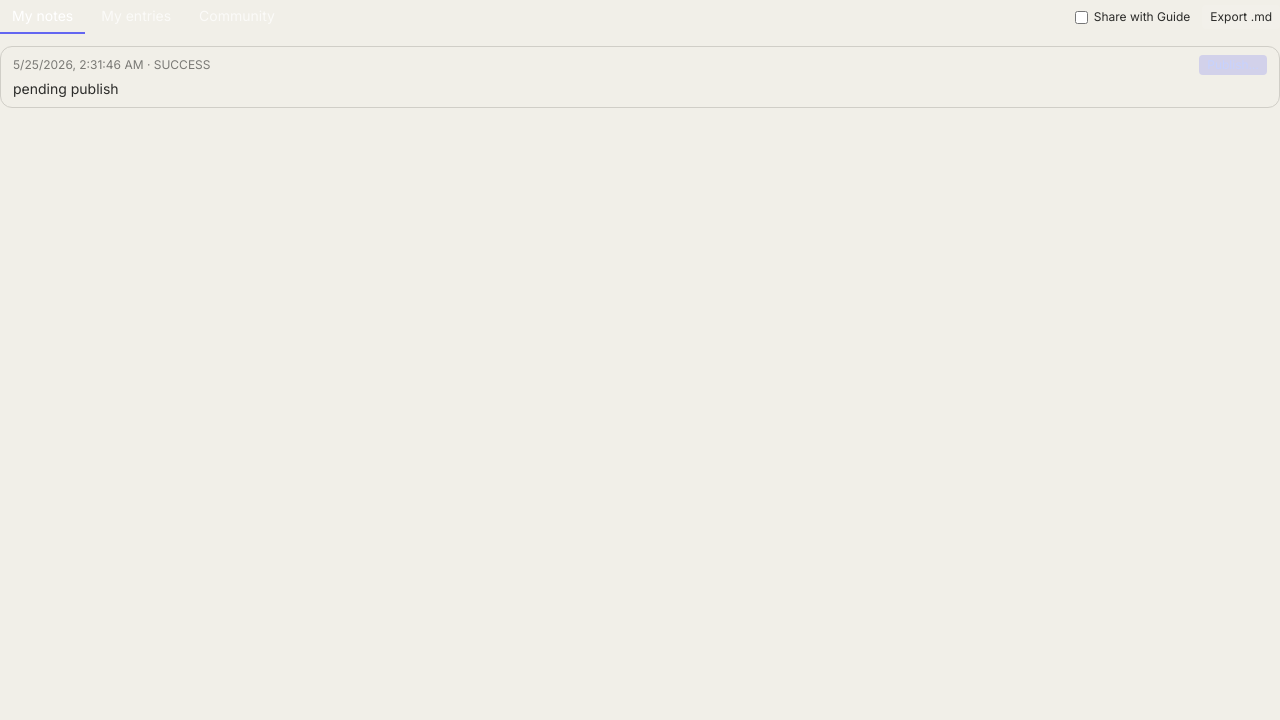
Scenario: TrainingJournalTab › surfaces a friendly 503 message when publish is disabled
Expected: the text "pending publish" is shown, x1=13 y1=80 x2=119 y2=97
Click the button with aria-label "Publish note" at (1233, 65), box x1=1199 y1=55 x2=1267 y2=75
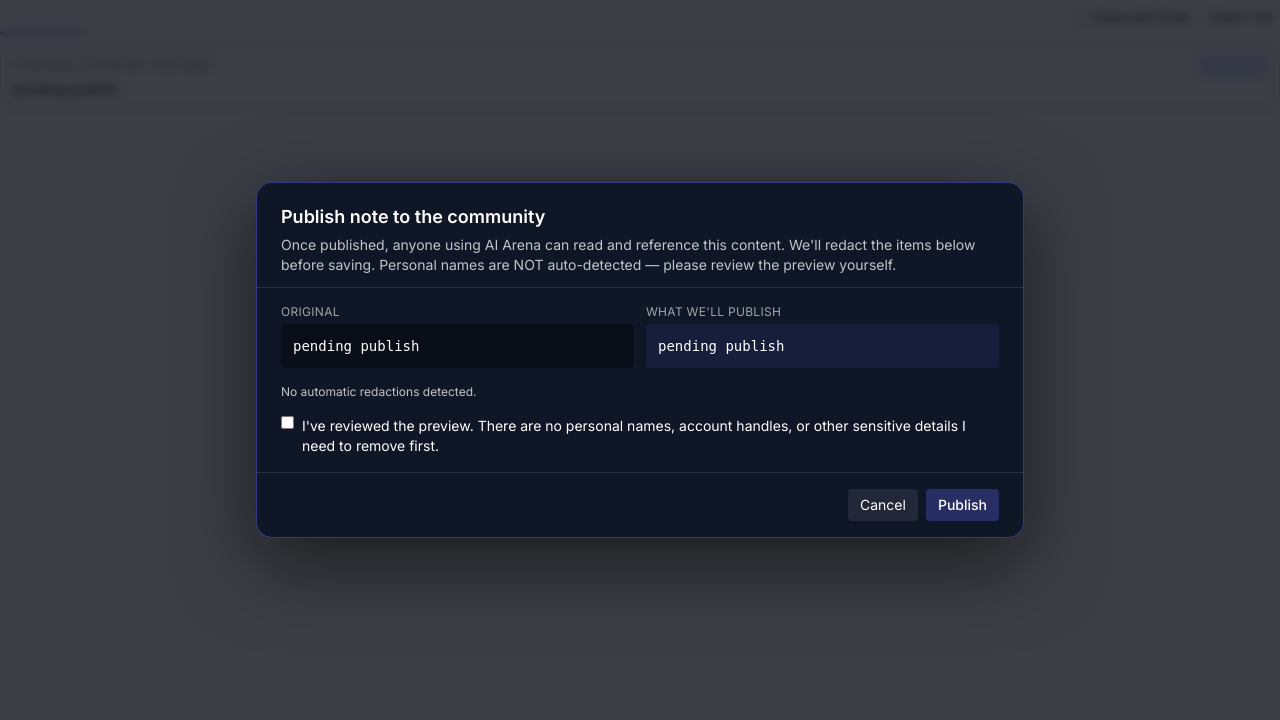
Note: Modal opens — tick the checkbox and click Publish.
Click the checkbox at (288, 422), box x1=281 y1=416 x2=294 y2=429
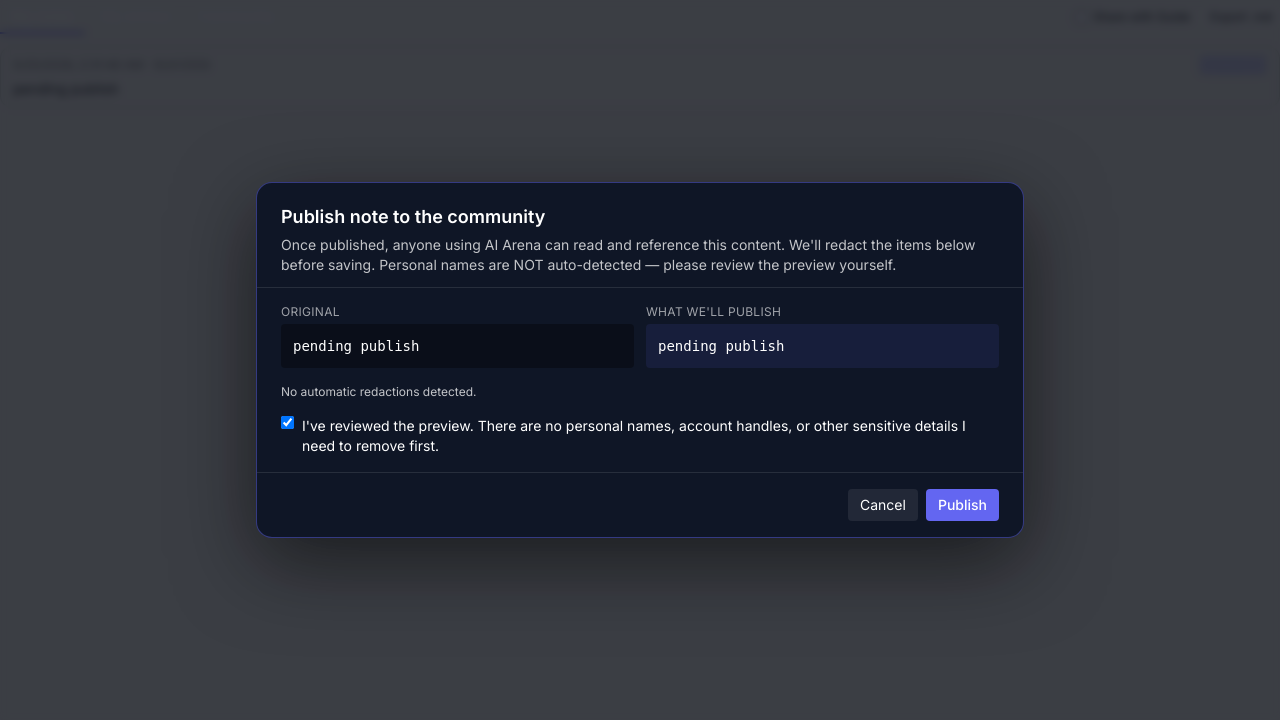
Click the button "Publish" at (962, 505), box x1=926 y1=489 x2=999 y2=521
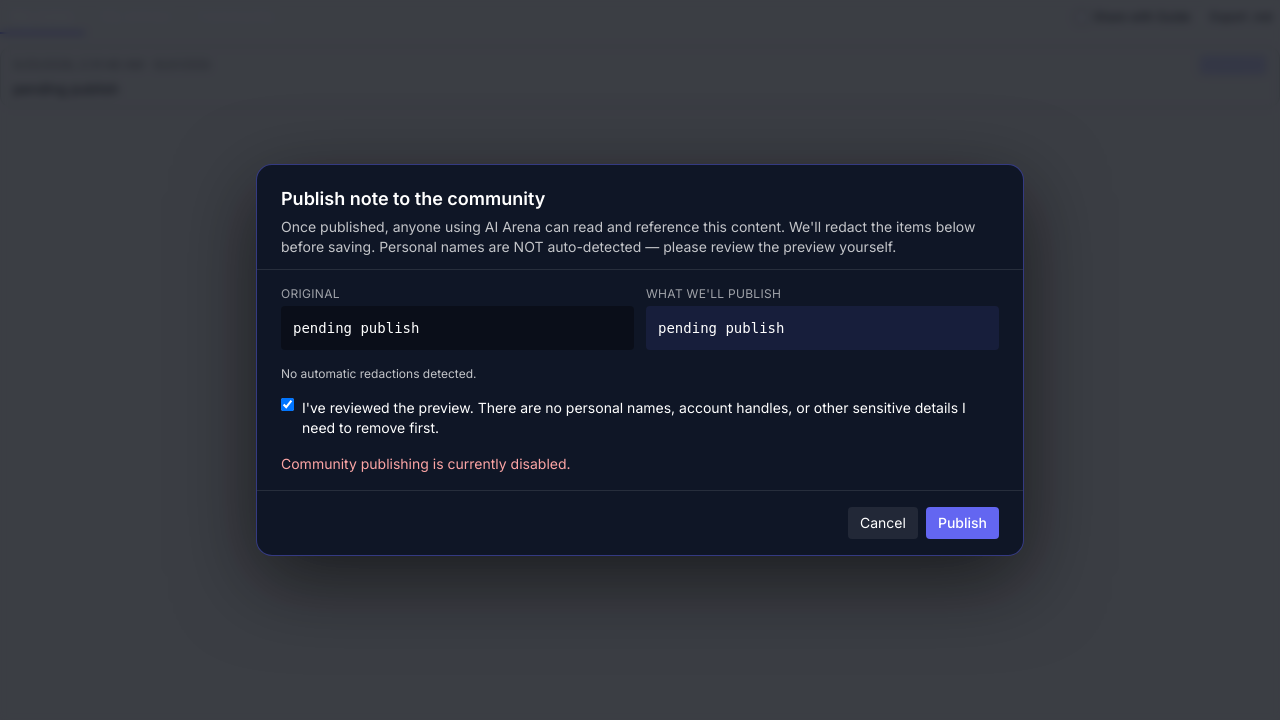
Result: the text "Community publishing is currently disabled." is shown at x1=281 y1=455 x2=571 y2=472
